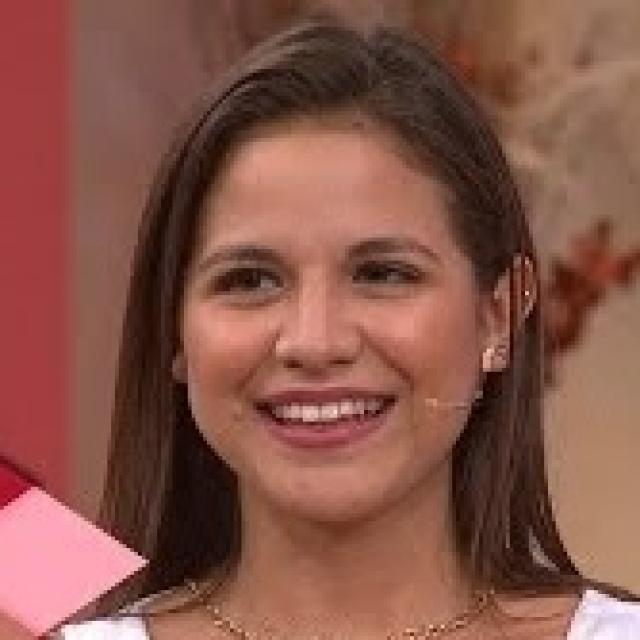Normal: (183, 128, 488, 523)
